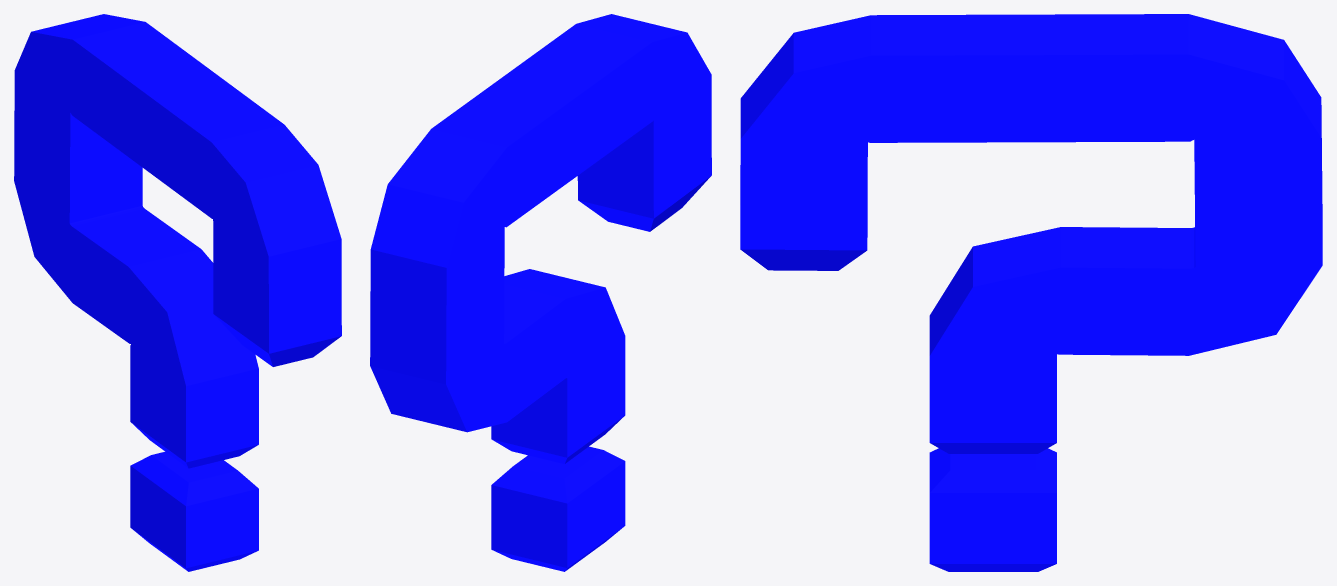
The model's file is questionmark.glb.
3 views of the same model, side by side, from view 1: azimuth 30°, elevation 25°; view 2: azimuth 150°, elevation 25°; view 3: azimuth 270°, elevation 25° (orthographic). The views are drawn at different scales.
Visible parts, largest first — view 1: Cube.001; view 2: Cube.001; view 3: Cube.001.
Part boxes in pixels (x1=…): Cube.001: x1=14, y1=14, x2=341, y2=571; Cube.001: x1=370, y1=14, x2=711, y2=571; Cube.001: x1=740, y1=14, x2=1322, y2=571.
Bounding box in the file's own units: 0.167 × 1 × 1.01.
